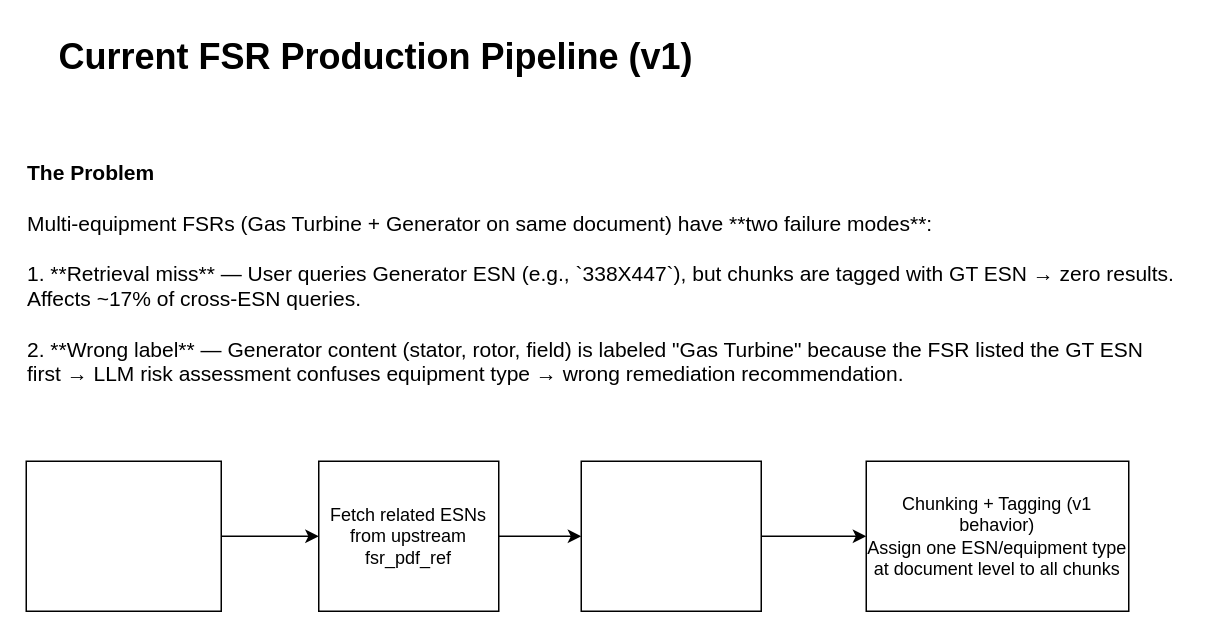
The diagram is 1208 pixels wide and 638 high, and some of its shapes have lost their labels. The box of each missing label's shape, as (x1, y1, x2, y2) in pixels:
Duplicate the record for multiple ESNs: (580, 460, 761, 611)
PDF Parsing Extract ESN from cover page and limited text windows: (25, 460, 221, 611)
